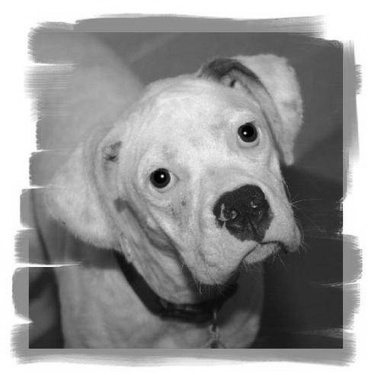dog: (14, 16, 328, 350)
